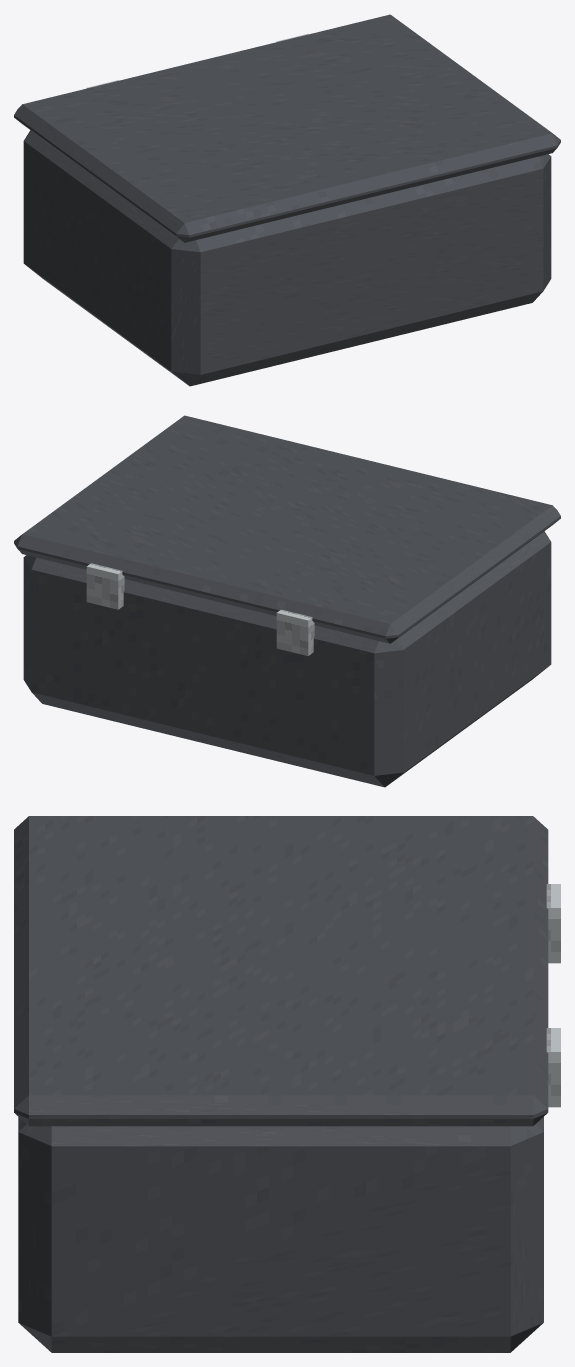
The model's file is box_small_plastic.glb.
3 renders of one model, top to bottom at view 1: azimuth 30°, elevation 25°; view 2: azimuth 150°, elevation 25°; view 3: azimuth 270°, elevation 25°, orthographic. The views are drawn at different scales.
Parts seen in each view (by area): view 1: block_container body, block_lid; view 2: block_container body, block_lid, block_latch (×2); view 3: block_lid, block_container body, block_latch (×2).
Boxes of the visible parts, x1,y1,x2,y2 form: block_container body: [23, 130, 551, 386]; block_lid: [14, 14, 560, 242]; block_container body: [23, 531, 551, 787]; block_lid: [14, 415, 560, 643]; block_latch (×2): [86, 563, 314, 655]; block_lid: [14, 816, 548, 1126]; block_container body: [18, 1117, 543, 1352]; block_latch (×2): [546, 884, 560, 1107].
Bounding box in the file's own units: 0.22 × 0.0939 × 0.1743.
1 material, 1 textured.
